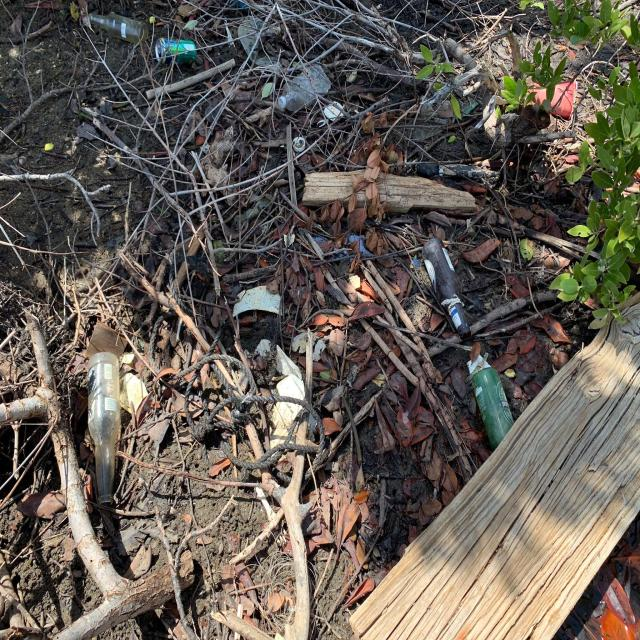litter: (421, 237, 470, 339), (87, 351, 119, 502), (469, 365, 512, 445), (275, 62, 331, 111), (530, 81, 578, 118), (90, 10, 144, 40), (155, 38, 194, 64), (292, 135, 303, 152)
